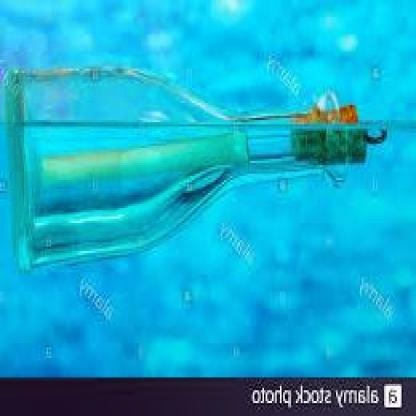gbottle: (8, 68, 368, 274)
